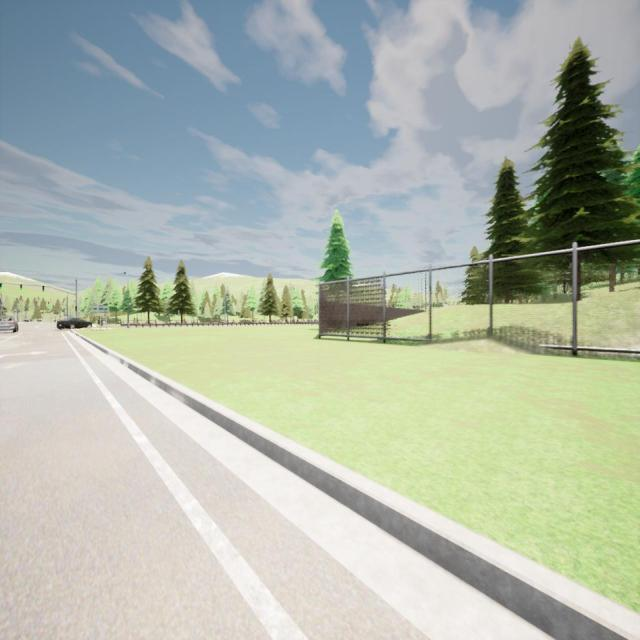Traffic_Signs: (93, 306, 109, 313)
Vehicle: (56, 318, 92, 329), (0, 316, 18, 334)
traffic_light: (0, 283, 2, 289), (20, 284, 22, 290), (42, 286, 44, 292), (75, 306, 77, 311)
